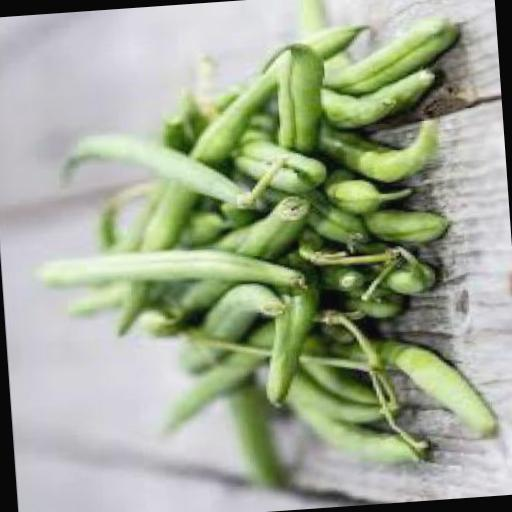biodegradable: (94, 21, 380, 334), (138, 192, 310, 328), (318, 320, 495, 444), (54, 118, 254, 221), (20, 238, 302, 304), (294, 0, 461, 98), (140, 316, 278, 434), (180, 192, 311, 314), (285, 386, 428, 472), (250, 254, 320, 403), (178, 279, 290, 366), (146, 224, 264, 298), (316, 114, 440, 184), (291, 330, 399, 406), (232, 108, 320, 194), (310, 66, 436, 126), (283, 366, 398, 427), (222, 372, 280, 492), (57, 238, 142, 312), (90, 174, 177, 246), (330, 236, 430, 298), (314, 159, 416, 217), (359, 196, 448, 246), (300, 191, 367, 247), (184, 202, 253, 250), (328, 279, 399, 321), (184, 40, 215, 130), (164, 84, 202, 146), (310, 259, 360, 289), (310, 309, 347, 346), (155, 112, 182, 156), (214, 85, 242, 120)
